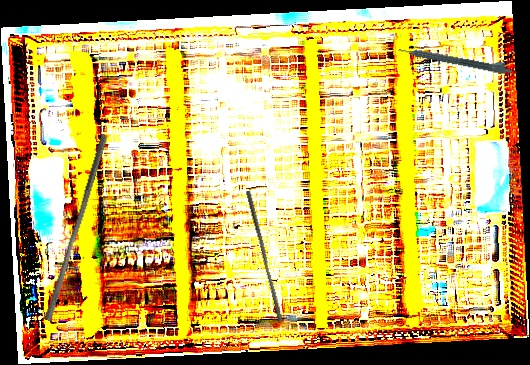Handpiece: (397, 41, 514, 76)
Pusher: (43, 131, 109, 324), (240, 190, 288, 322)
